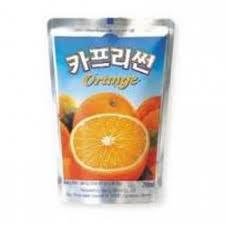cafrisun: (43, 13, 178, 212)
